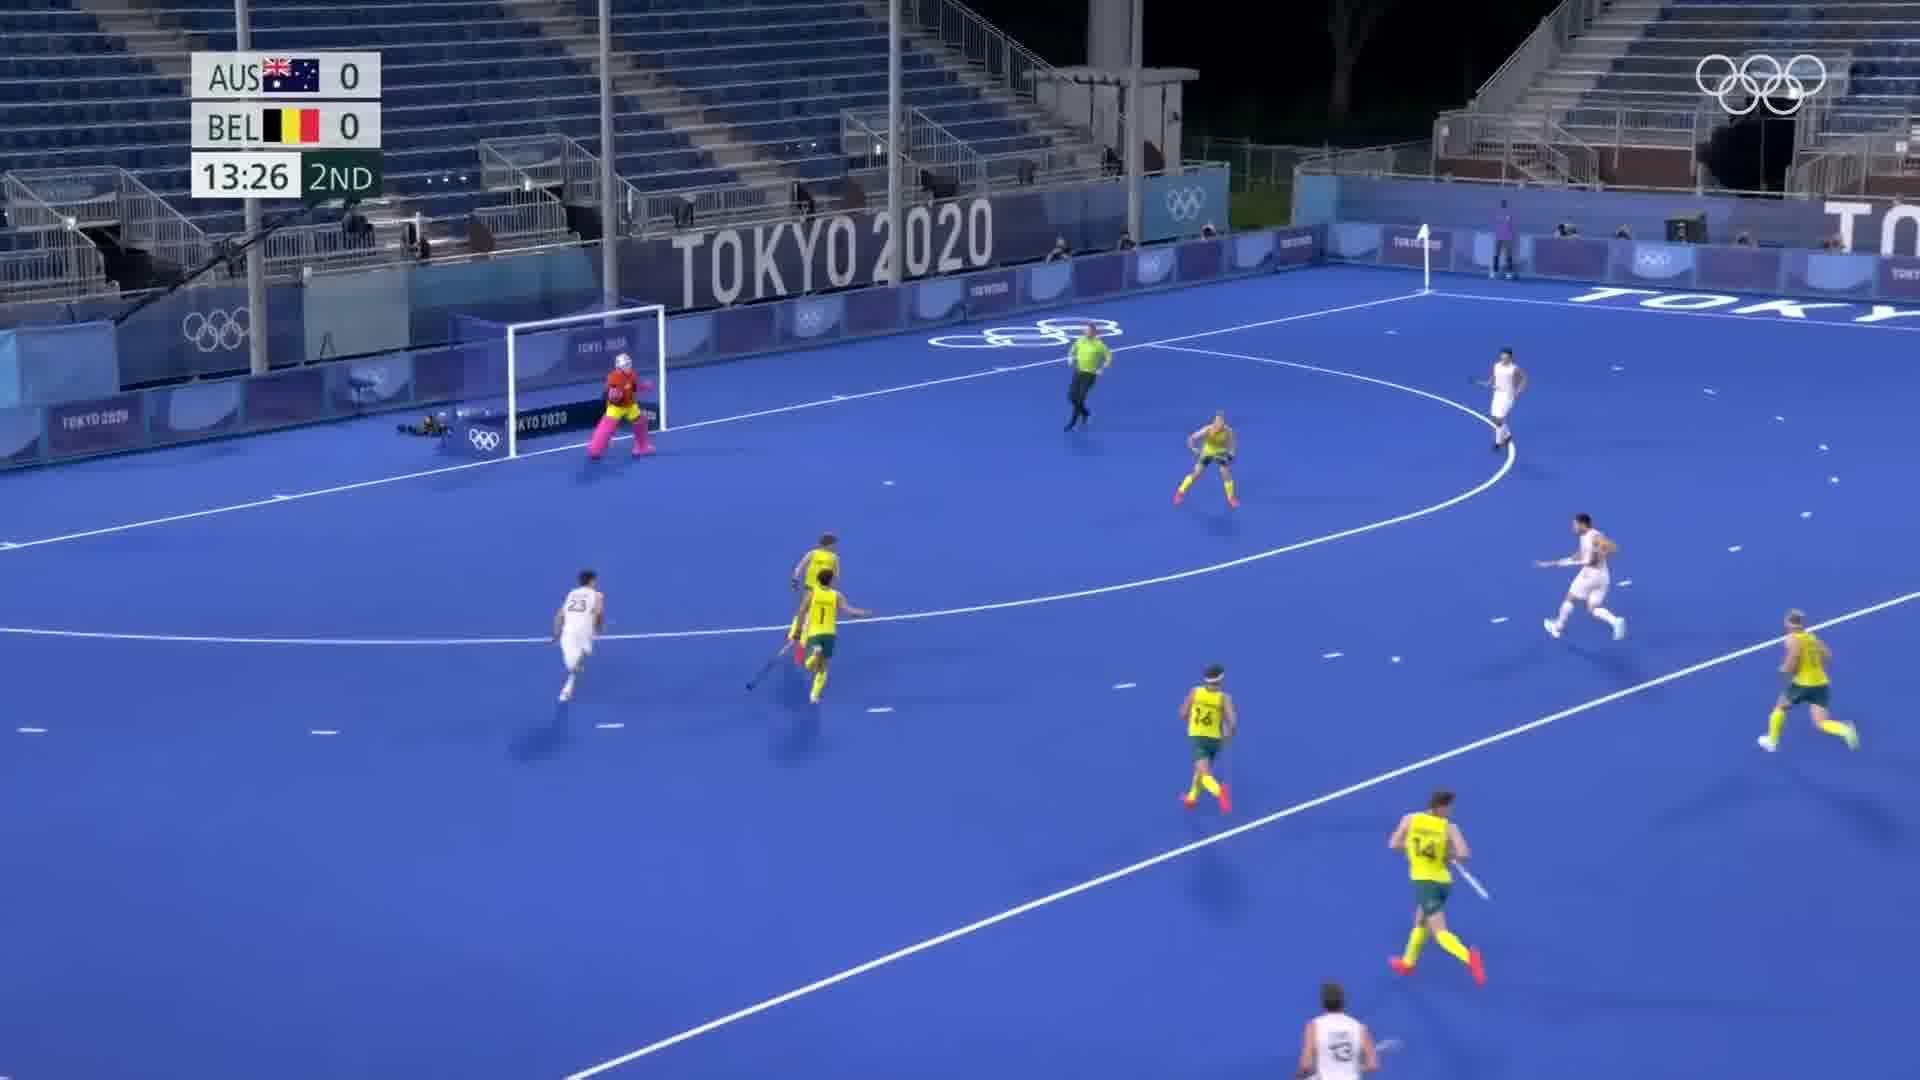ball: (1380, 652, 1410, 672)
